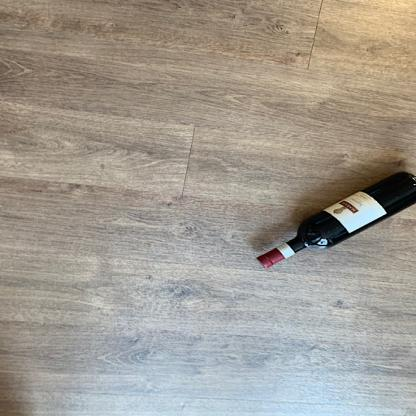trash: (254, 170, 416, 279)
